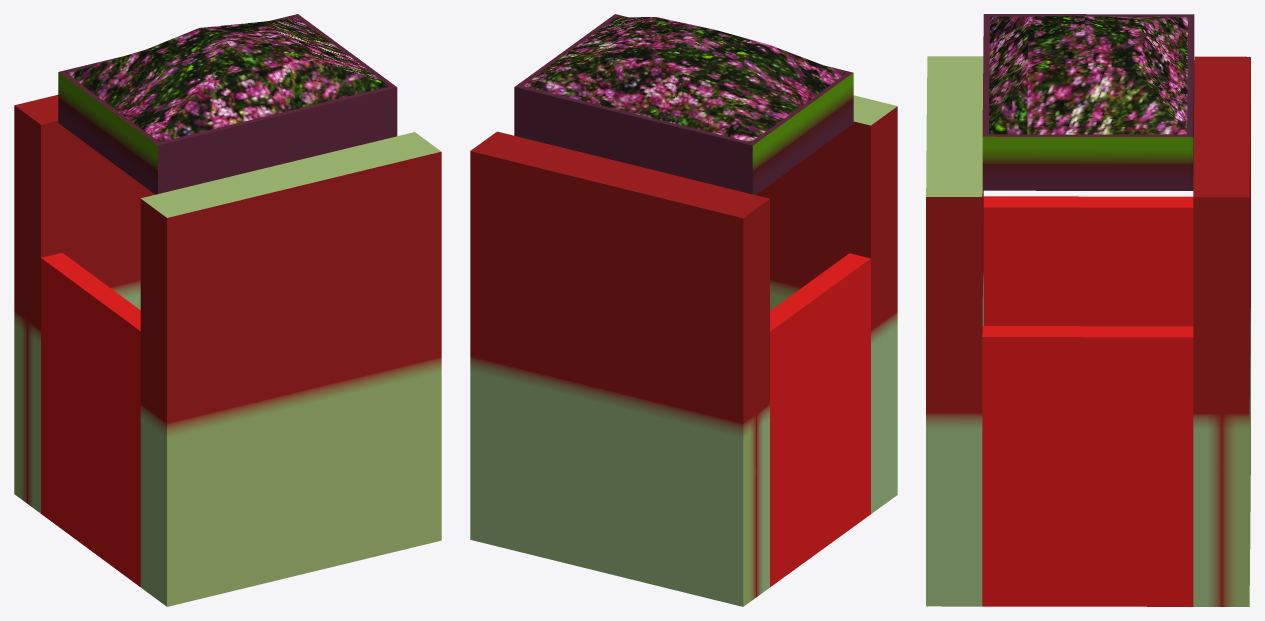
The model's file is SM_Trash_bin_v01.FBX.
3 views of the same model, side by side, from view 1: azimuth 30°, elevation 25°; view 2: azimuth 150°, elevation 25°; view 3: azimuth 270°, elevation 25° (orthographic). The views are drawn at different scales.
Parts seen in each view (by area): view 1: SM_Trash_bin_v01; view 2: SM_Trash_bin_v01; view 3: SM_Trash_bin_v01.
Part boxes in pixels (bbox=[...]): SM_Trash_bin_v01: bbox=[14, 14, 441, 606]; SM_Trash_bin_v01: bbox=[470, 14, 897, 606]; SM_Trash_bin_v01: bbox=[926, 14, 1250, 606].
Bounding box in the file's own units: 0.5256 × 0.8741 × 0.5111.
